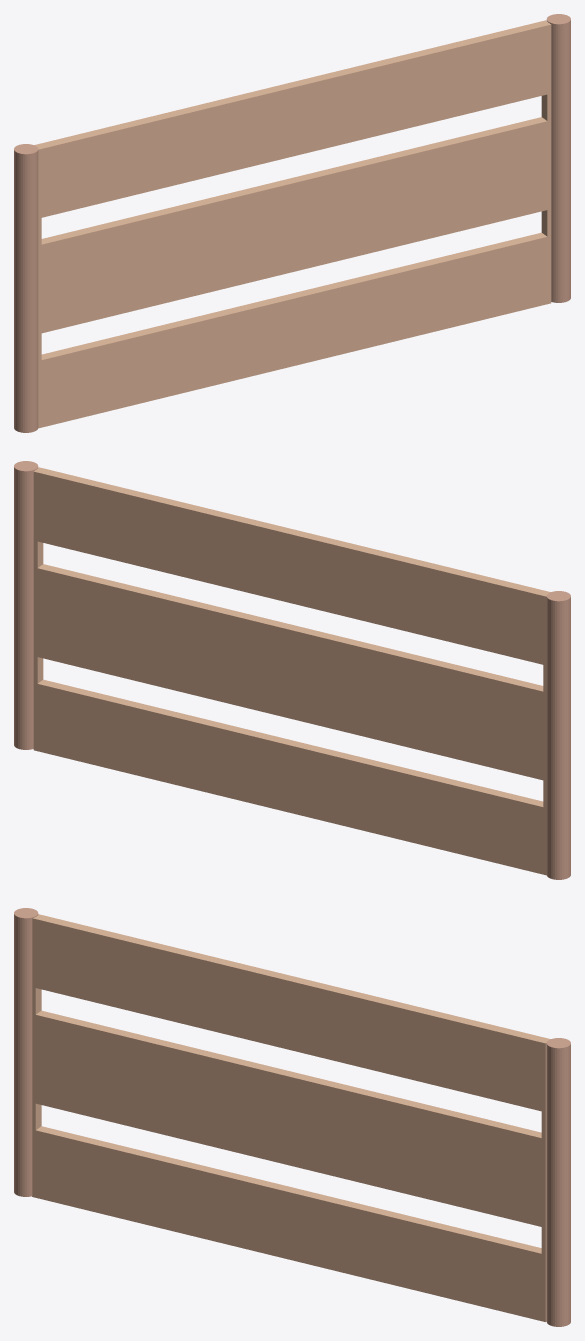
Rendered from fence.fbx.
3 renders of one model, top to bottom at view 1: azimuth 30°, elevation 25°; view 2: azimuth 150°, elevation 25°; view 3: azimuth 330°, elevation 25°, orthographic.
Parts seen in each view (by area): view 1: Cube, Cylinder.001, Cylinder; view 2: Cube, Cylinder.001, Cylinder; view 3: Cube, Cylinder, Cylinder.001.
Boxes of the visible parts, box(x1,y1,x2,y2) form: Cube: box(34, 20, 551, 428); Cylinder.001: box(14, 144, 38, 432); Cylinder: box(546, 14, 570, 302); Cube: box(33, 467, 550, 875); Cylinder.001: box(546, 591, 570, 879); Cylinder: box(14, 461, 38, 749); Cube: box(32, 914, 550, 1321); Cylinder: box(546, 1038, 570, 1326); Cylinder.001: box(14, 908, 38, 1196).
Bounding box in the file's own units: 416 × 201 × 15.81.
